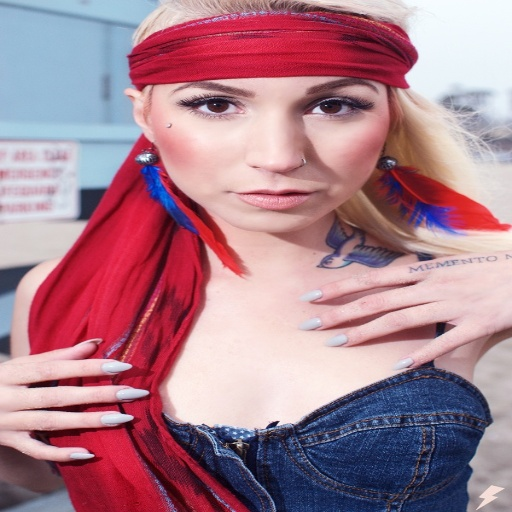hand: (295, 248, 510, 370), (3, 328, 136, 461)
